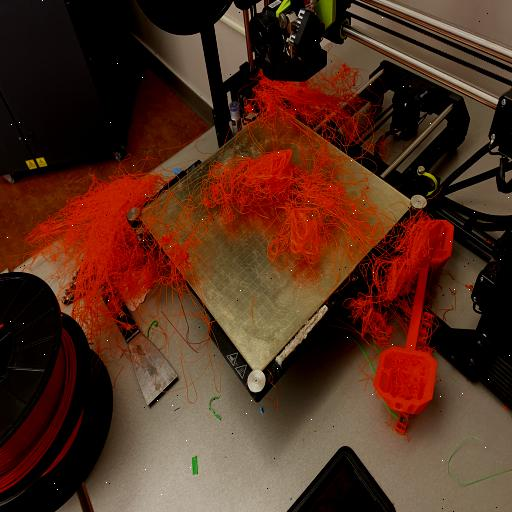spaghetti: (206, 56, 386, 258), (356, 198, 458, 445), (38, 154, 176, 325)
